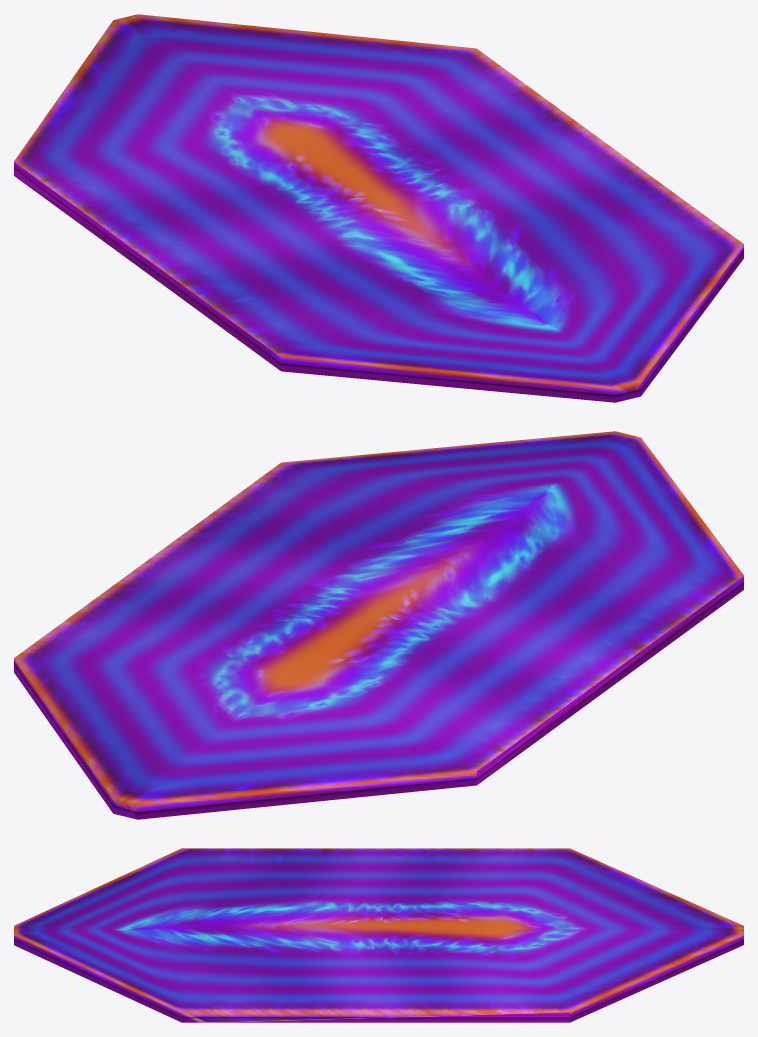
Rendered from rug_bohemian.fbx.
3 renders of one model, top to bottom at view 1: azimuth 30°, elevation 25°; view 2: azimuth 150°, elevation 25°; view 3: azimuth 270°, elevation 25°, orthographic. The views are drawn at different scales.
Visible parts, largest first — view 1: rug; view 2: rug; view 3: rug.
Boxes of the visible parts, left/top/right/bottom form: rug: left=14, top=14, right=743, bottom=402; rug: left=14, top=431, right=743, bottom=819; rug: left=14, top=848, right=743, bottom=1022.
Bounding box in the file's own units: 553 × 23.99 × 1041.
1 material, 1 textured.
